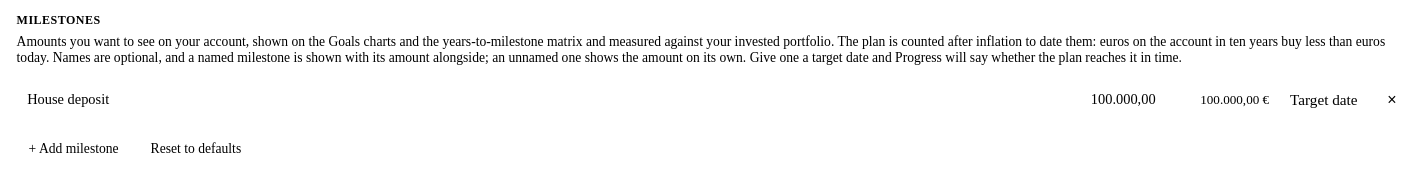
Test: MilestonesSetting › reads the amount by the currency format › reads a point as the group mark where the decimal mark is the comma
The image size is (1413, 170).
Note: A number field reads this as 150: a hundred and fifty euros.
Step 1. Replace the text in the field named "Milestone amount" with "150.000" → [1136, 100], box [1080,82,1192,117]
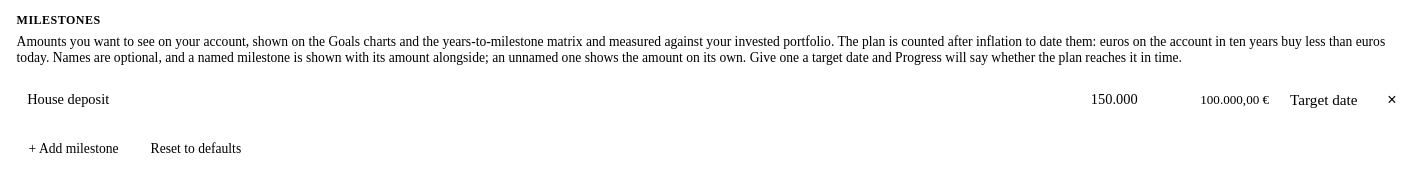
Step 2. Leave the field named "Milestone amount", box [1080,82,1192,117]
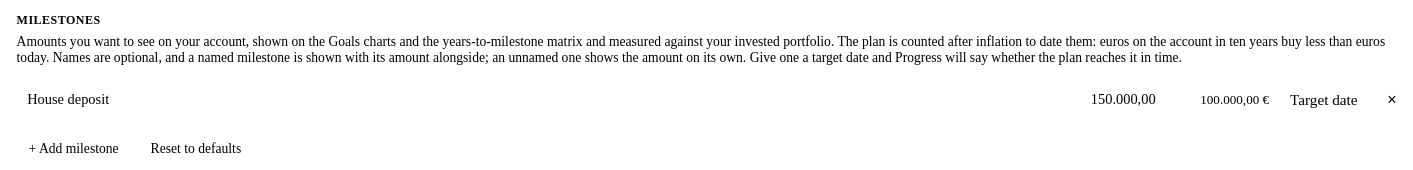
expect the field named "Milestone amount" holds "150.000,00": met, box [1080,82,1192,117]
